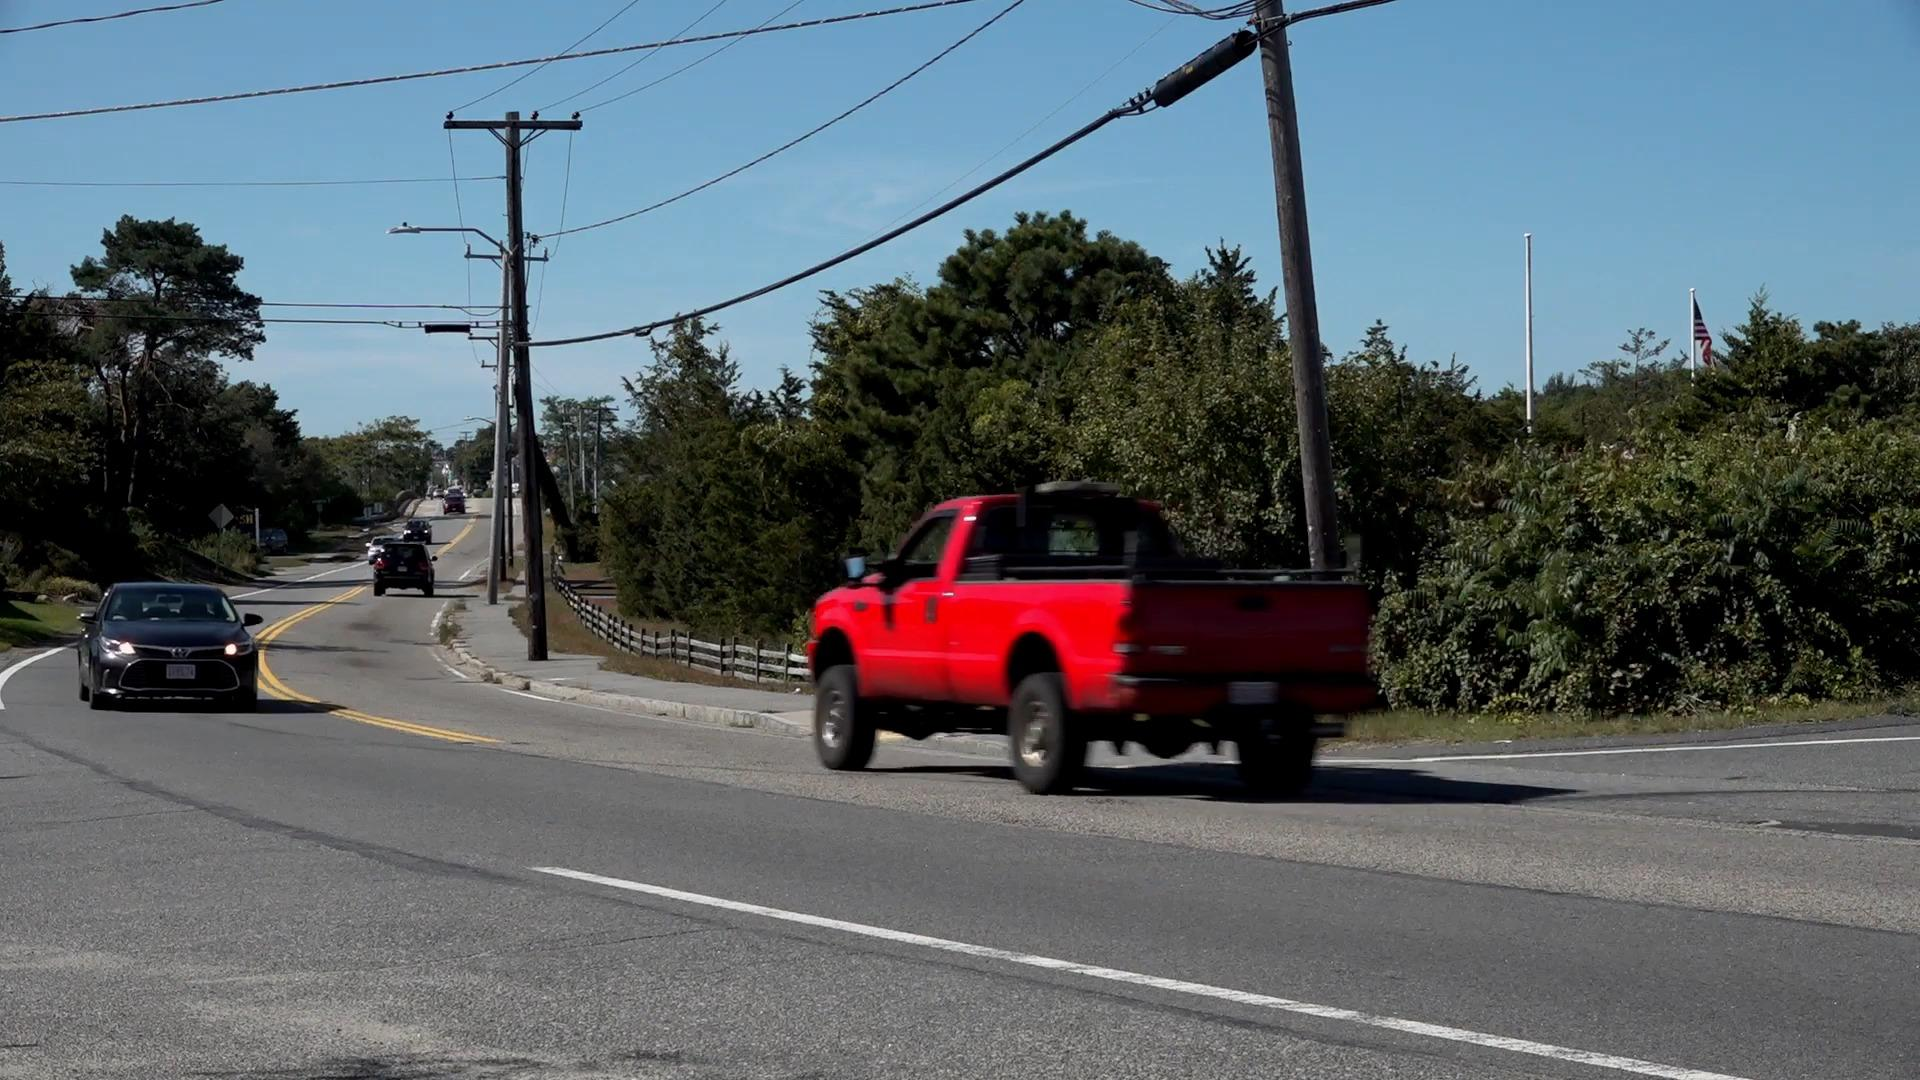pickup: (804, 488, 1377, 790)
sedans: (83, 582, 261, 715)
